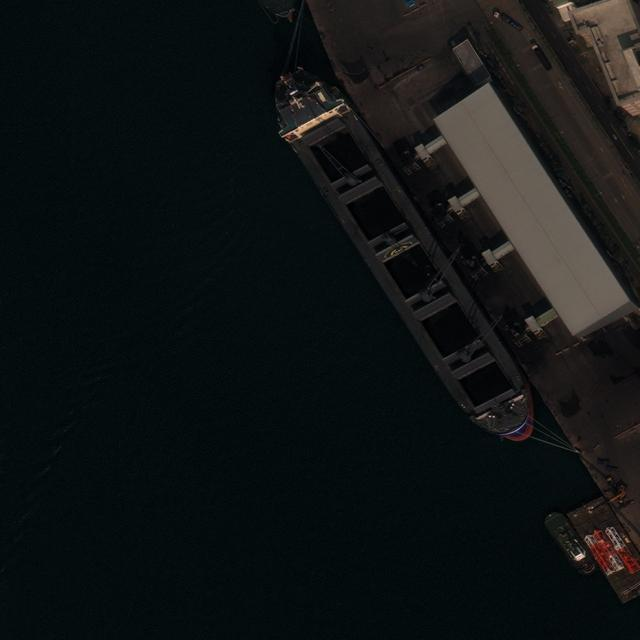Container Ship: (256, 56, 552, 462)
Other Ship: (542, 508, 599, 579)
